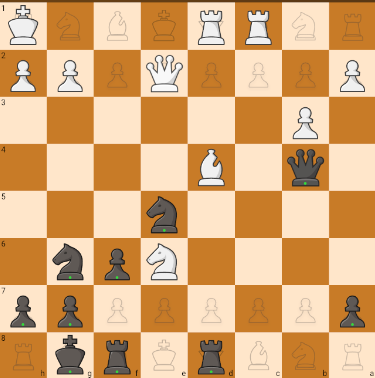bk: (50, 333, 91, 375)
bn: (49, 243, 90, 282)
bp: (53, 290, 90, 330), (334, 287, 369, 328), (5, 291, 39, 330), (98, 247, 137, 281)
bq: (144, 194, 185, 236), (283, 148, 327, 187)
br: (190, 334, 233, 374), (99, 337, 137, 375)
wb: (191, 145, 229, 187)
wk: (3, 5, 44, 48)
wn: (143, 242, 182, 281)
wp: (333, 54, 371, 95), (287, 103, 325, 144), (52, 52, 88, 94), (4, 56, 42, 94)
wq: (144, 54, 184, 95)
wr: (194, 7, 231, 48), (241, 6, 276, 48)
